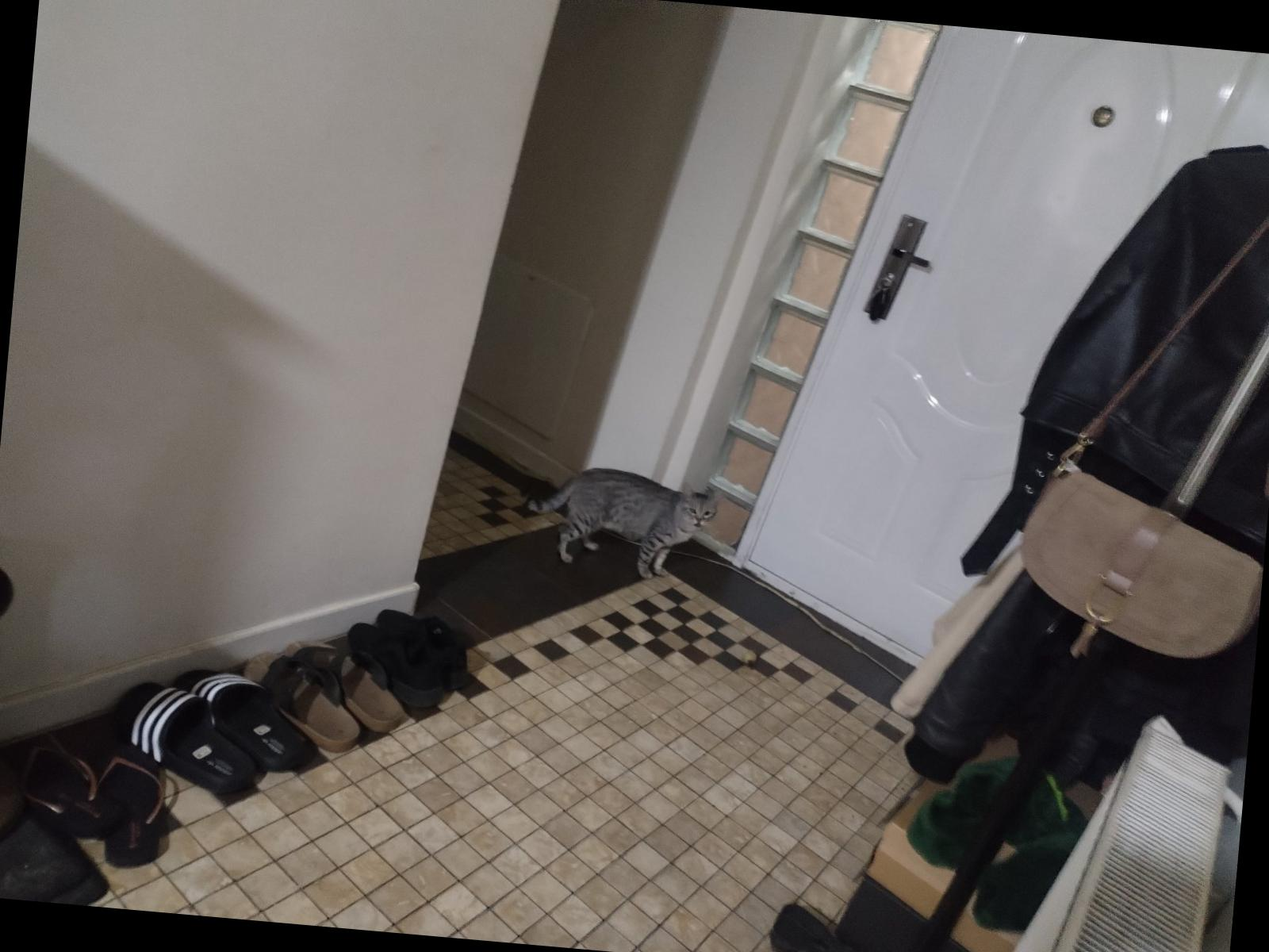macka: (513, 460, 722, 585)
